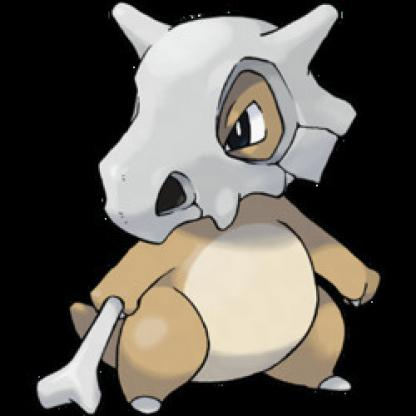Cubone: (56, 1, 380, 412)
